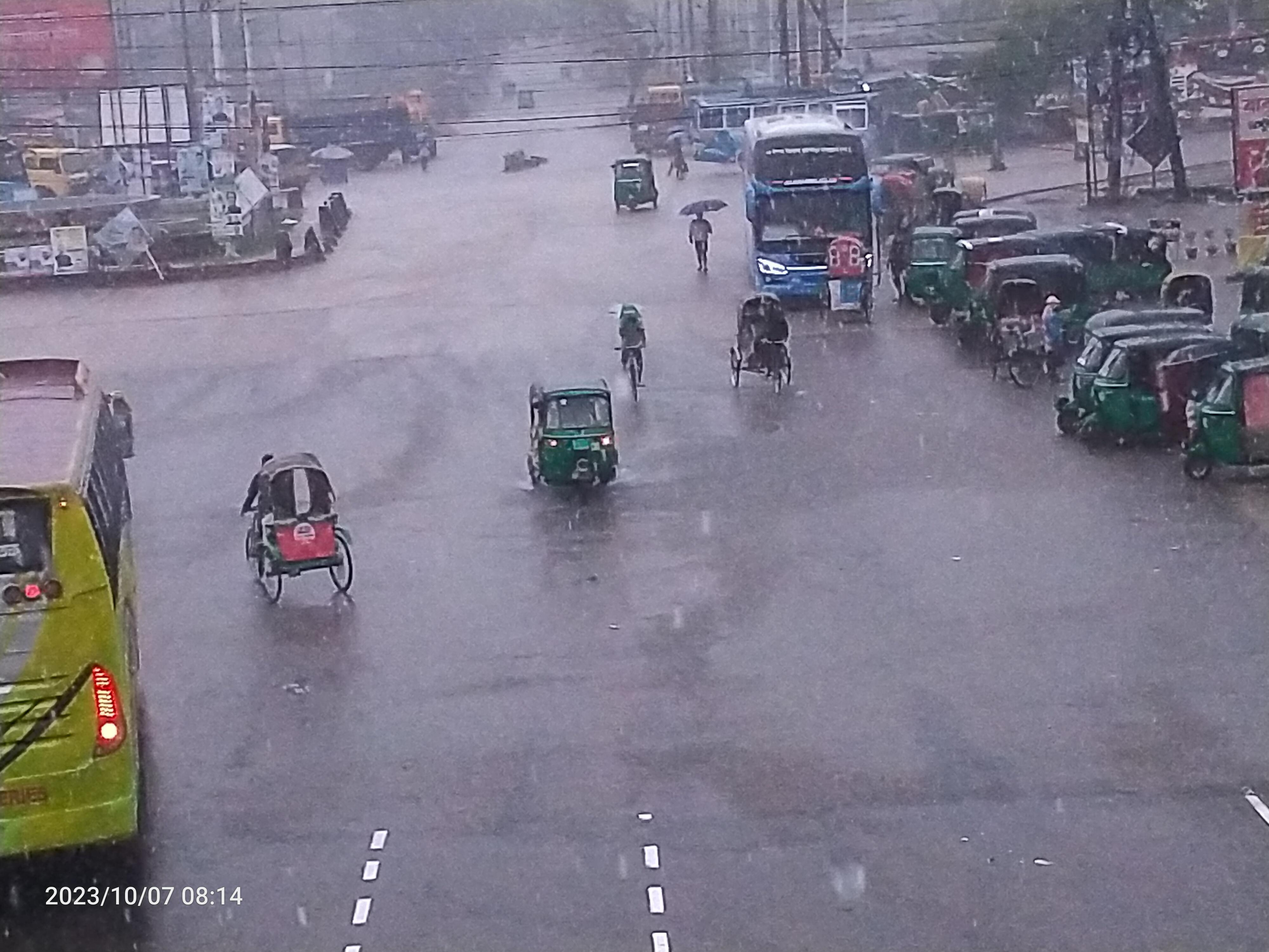Bike: (597, 285, 653, 421)
Bus: (0, 332, 174, 897), (736, 118, 885, 321), (686, 81, 890, 162)
Car: (218, 435, 385, 615), (712, 284, 816, 408), (817, 228, 900, 346)
Truck: (264, 68, 437, 172), (23, 140, 101, 196)
